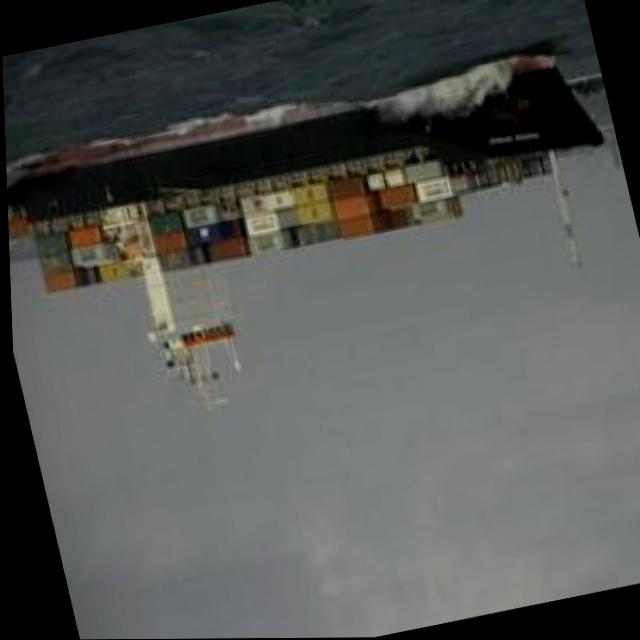ship2: (5, 54, 604, 402)
